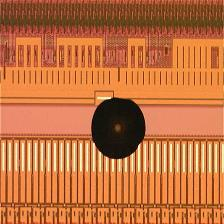PARTICLE: (90, 94, 150, 162)
